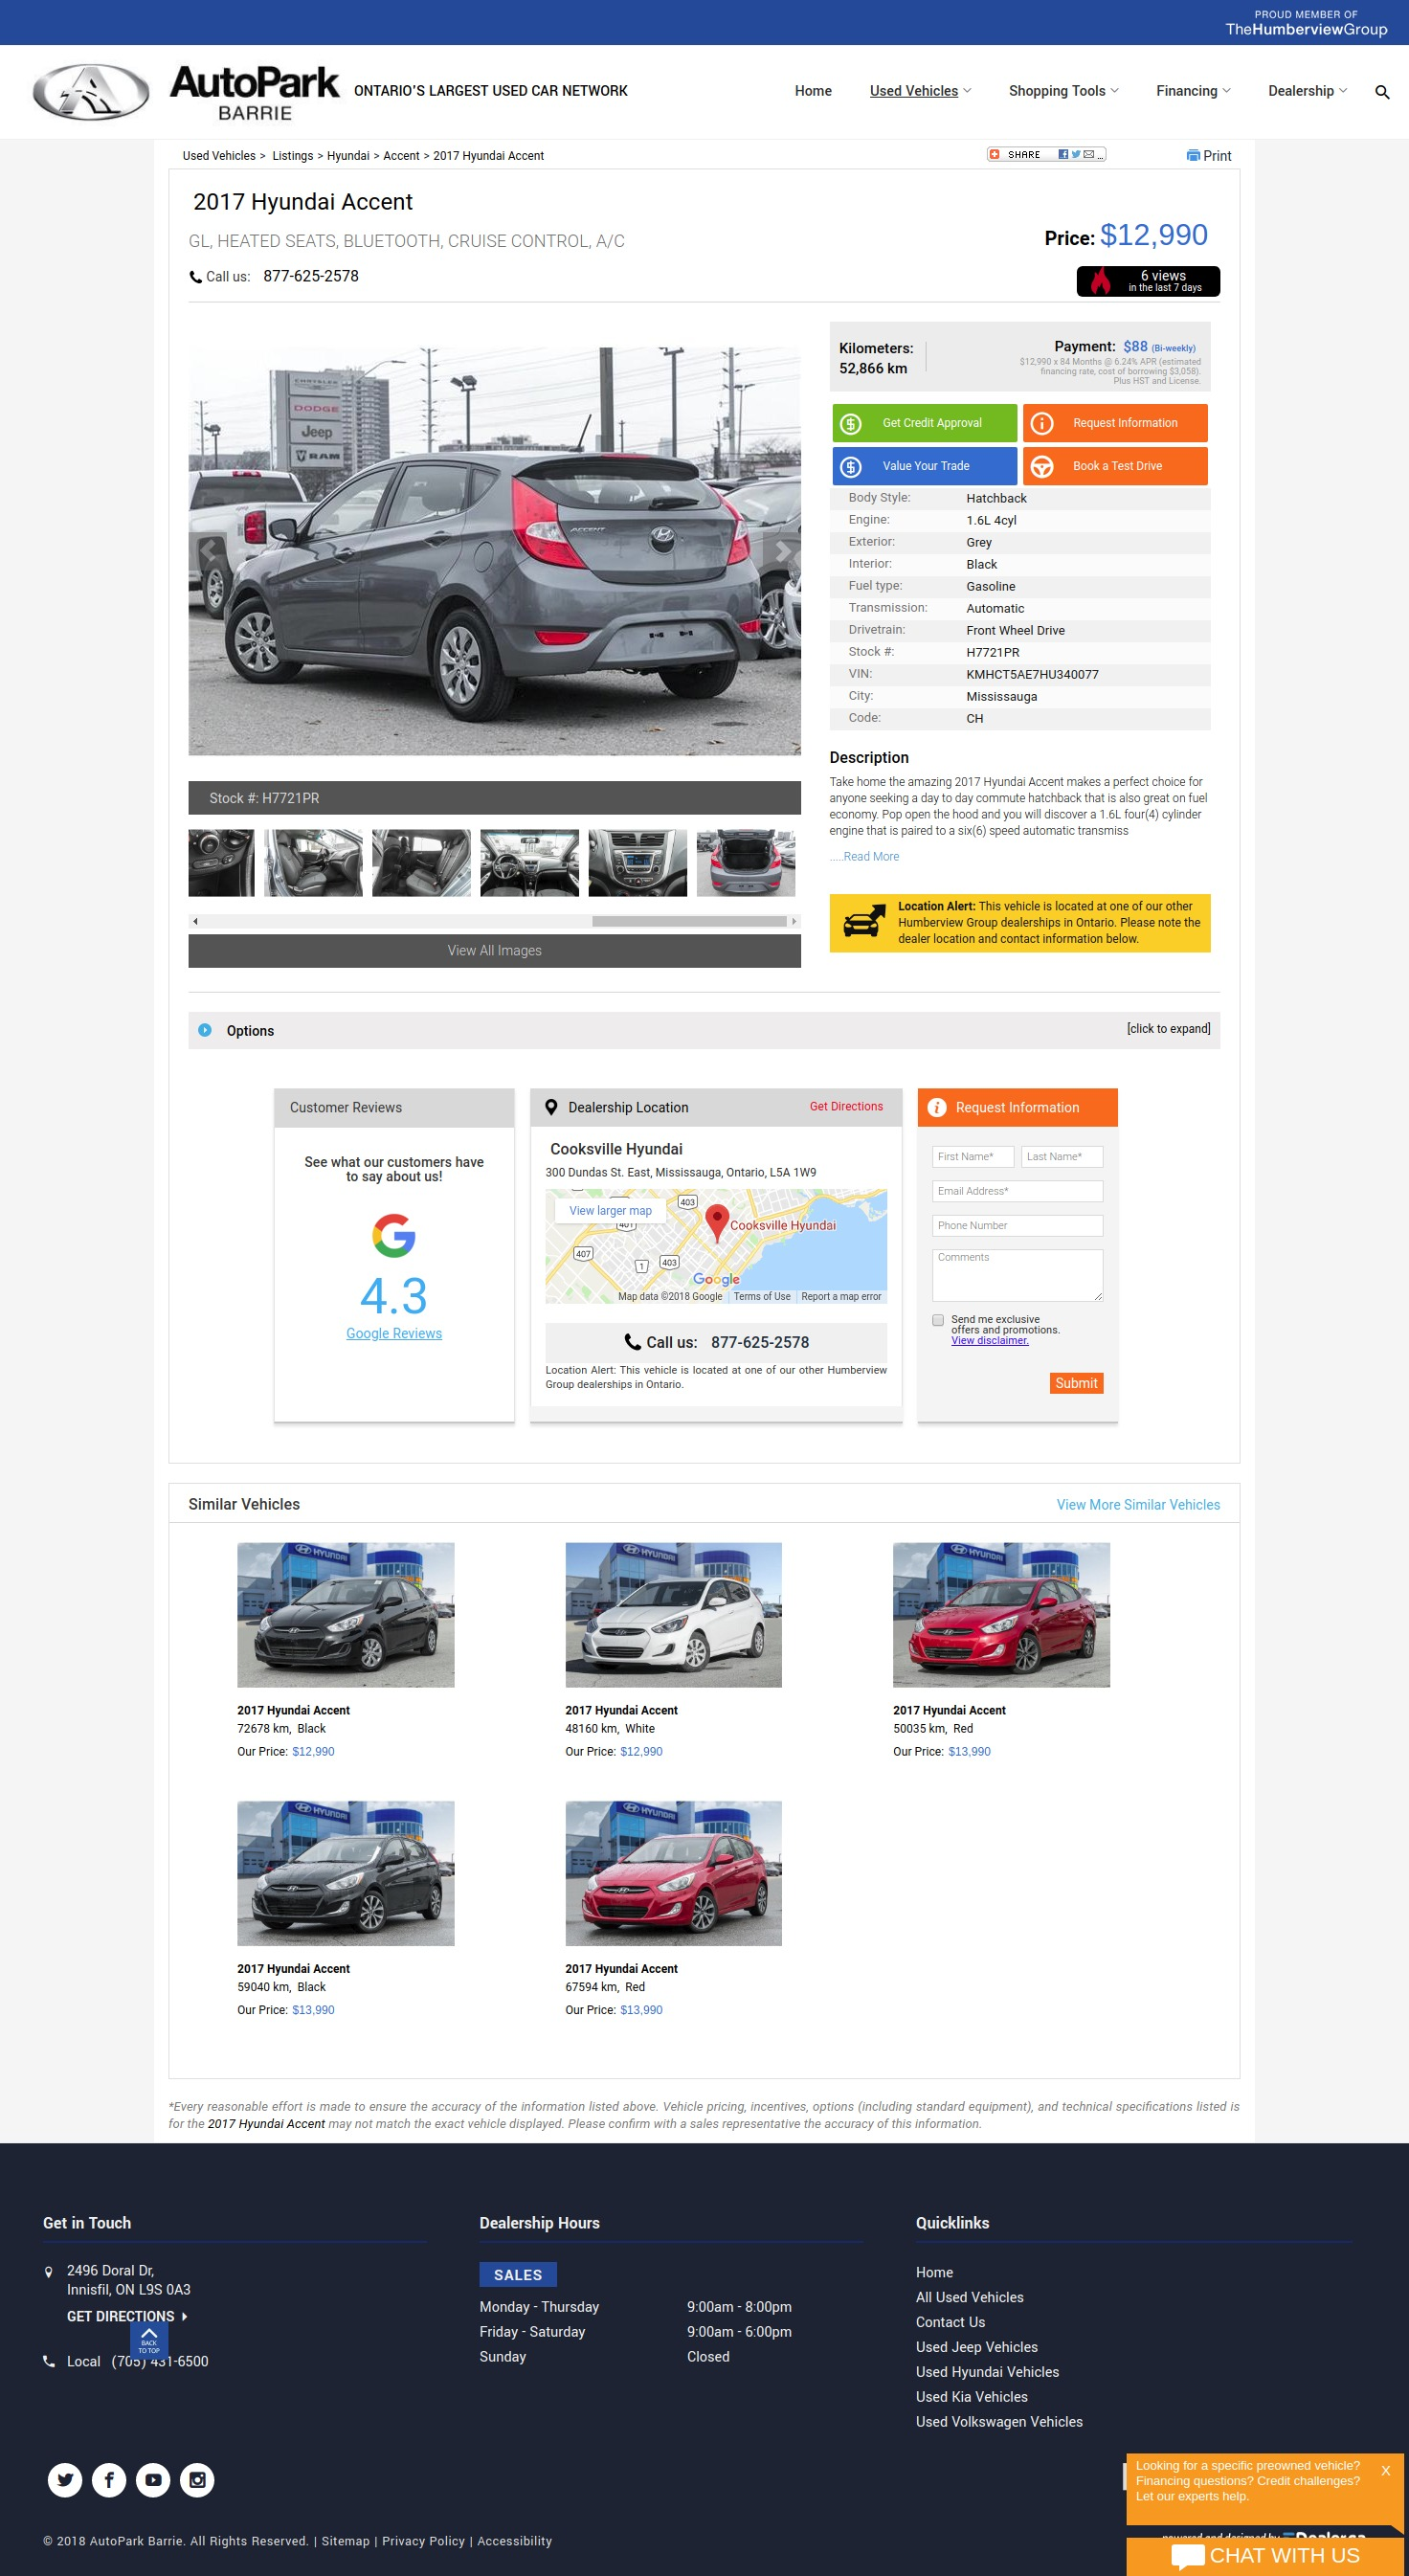car: (762, 533, 803, 572)
